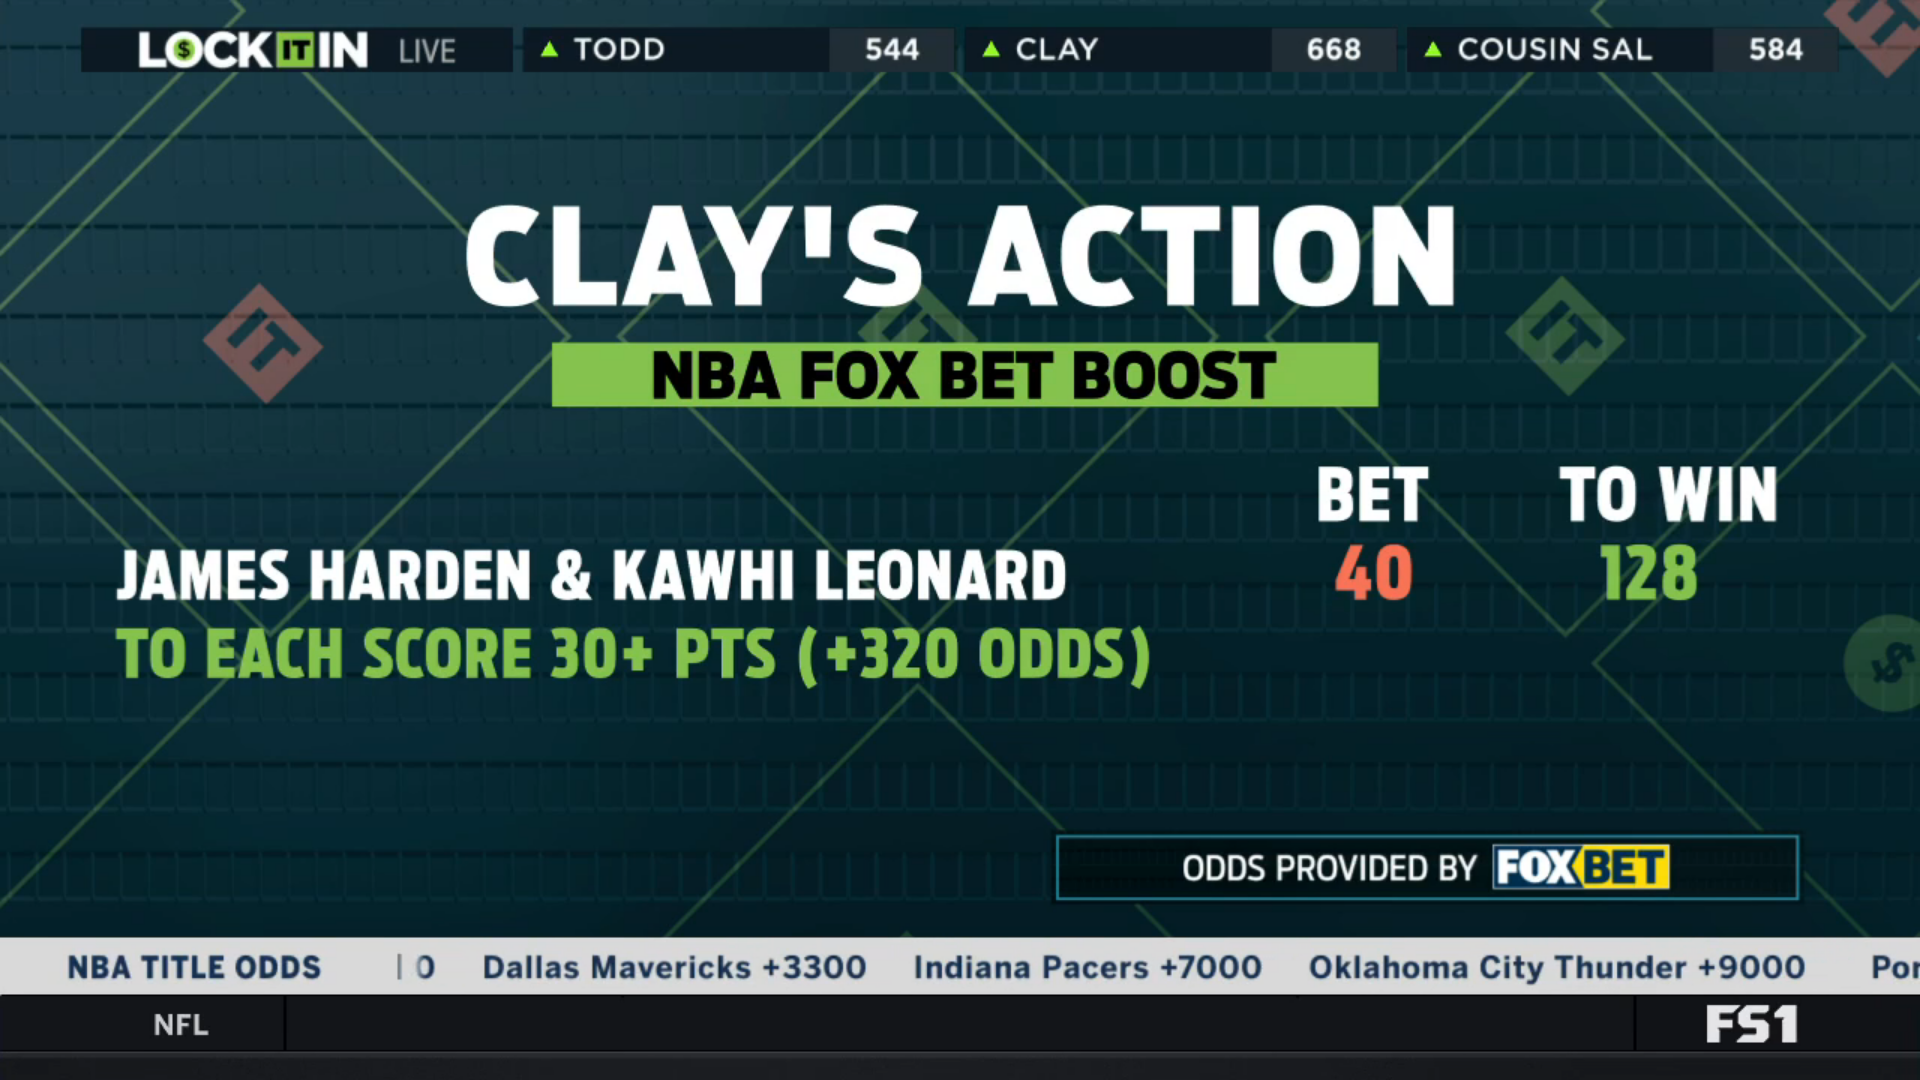Bet: (102, 531, 1171, 698)
Bet Amount: (1305, 454, 1443, 618)
Subtitle: (545, 332, 1393, 417)
Title: (454, 185, 1469, 319)
To Win: (1545, 448, 1791, 609)
Top Bar: (69, 17, 1847, 83)
